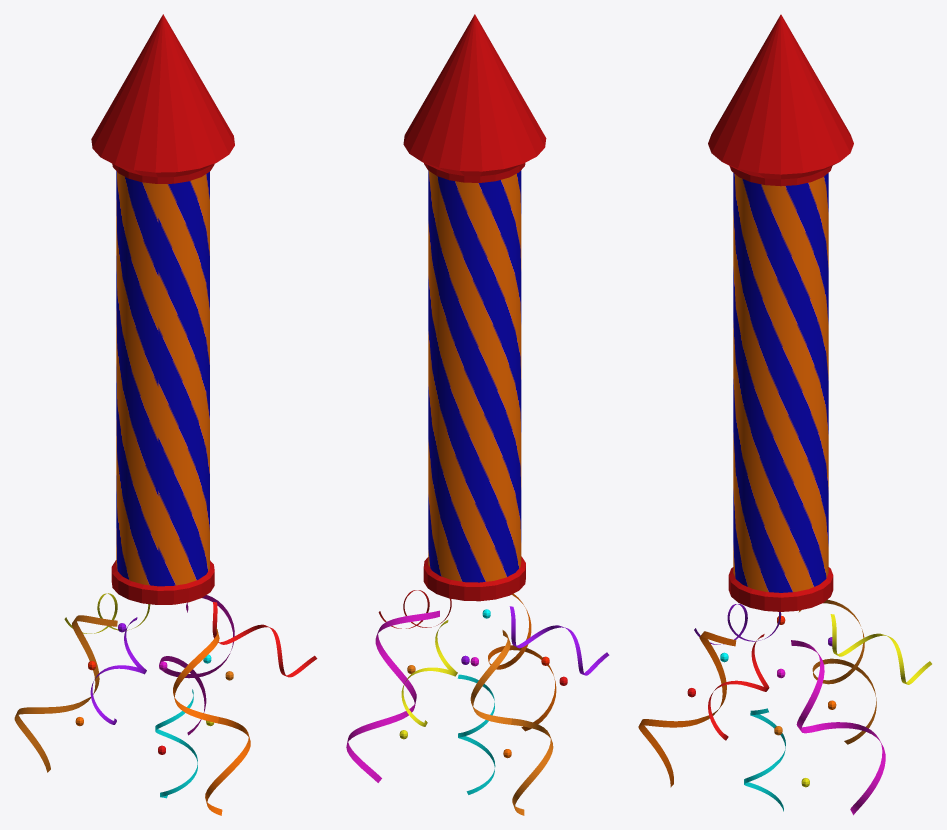
The model's file is Rocket 2.fbx.
3 views of the same model, side by side, from view 1: azimuth 30°, elevation 25°; view 2: azimuth 150°, elevation 25°; view 3: azimuth 270°, elevation 25° (orthographic).
Parts seen in each view (by area): view 1: Missile, Coriandolo13, Coriandolo12, Coriandolo14, Coriandolo10, Coriandolo11, Coriandolo9; view 2: Missile, Coriandolo14, Coriandolo13, Coriandolo9, Coriandolo12, Coriandolo11, Coriandolo8; view 3: Missile, Coriandolo12, Coriandolo14, Coriandolo13, Coriandolo8, Coriandolo10, Coriandolo11.
Part boxes in pixels (x1=…): Missile: x1=91, y1=14, x2=234, y2=604; Coriandolo13: x1=14, y1=615, x2=117, y2=772; Coriandolo12: x1=173, y1=627, x2=250, y2=815; Coriandolo14: x1=159, y1=595, x2=234, y2=735; Coriandolo10: x1=212, y1=602, x2=317, y2=677; Coriandolo11: x1=155, y1=689, x2=197, y2=798; Coriandolo9: x1=90, y1=617, x2=146, y2=724; Missile: x1=403, y1=14, x2=546, y2=601; Coriandolo14: x1=346, y1=610, x2=439, y2=782; Coriandolo13: x1=470, y1=630, x2=553, y2=815; Coriandolo9: x1=509, y1=606, x2=609, y2=675; Coriandolo12: x1=488, y1=593, x2=556, y2=731; Coriandolo11: x1=457, y1=674, x2=495, y2=794; Coriandolo8: x1=401, y1=620, x2=457, y2=726; Missile: x1=708, y1=14, x2=853, y2=611; Coriandolo12: x1=638, y1=631, x2=736, y2=787; Coriandolo14: x1=791, y1=640, x2=885, y2=815; Coriandolo13: x1=798, y1=599, x2=876, y2=744; Coriandolo8: x1=830, y1=614, x2=931, y2=684; Coriandolo10: x1=708, y1=634, x2=769, y2=740; Coriandolo11: x1=744, y1=708, x2=785, y2=811.
Size of the model in its own units: 1.71 by 5.48 by 1.84.
Materials: 1 (1 with a texture image).
